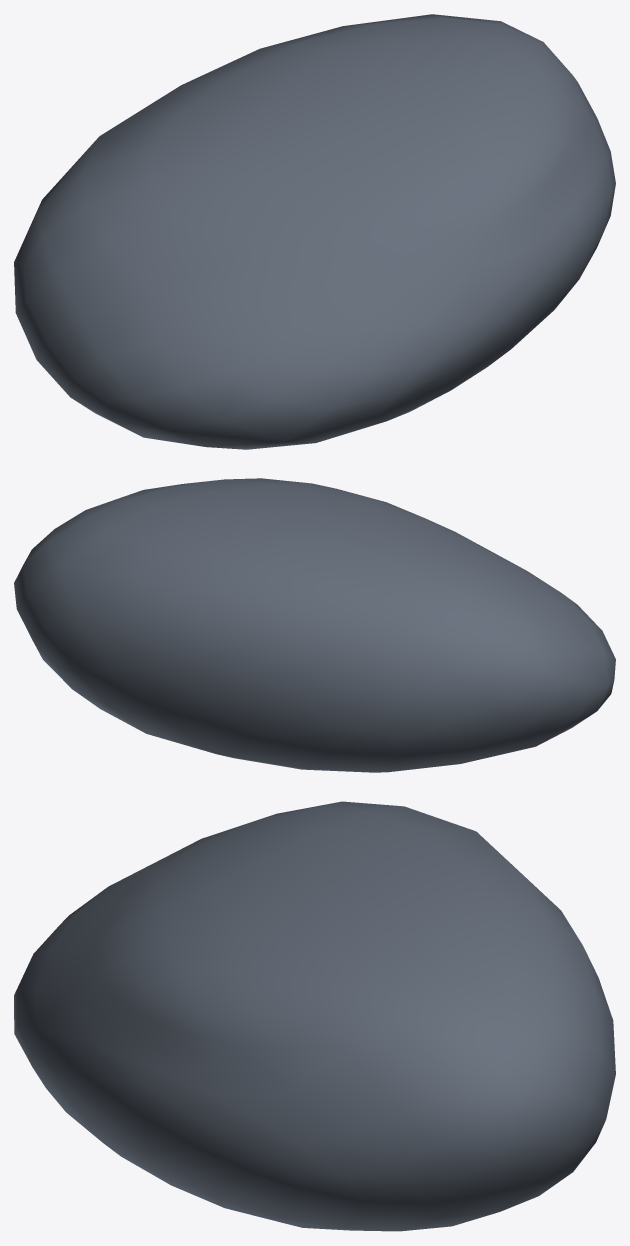
The model's file is RockSmall_A.fbx.
3 views of the same model, one above another, from view 1: azimuth 30°, elevation 25°; view 2: azimuth 150°, elevation 25°; view 3: azimuth 270°, elevation 25° (orthographic). The views are drawn at different scales.
Parts seen in each view (by area): view 1: RockSmall_A; view 2: RockSmall_A; view 3: RockSmall_A.
Boxes of the visible parts, x1=… form: RockSmall_A: x1=14, y1=14, x2=615, y2=449; RockSmall_A: x1=14, y1=478, x2=615, y2=772; RockSmall_A: x1=14, y1=801, x2=615, y2=1231.
Size of the model in its own units: 88.17 by 36.47 by 67.23.
